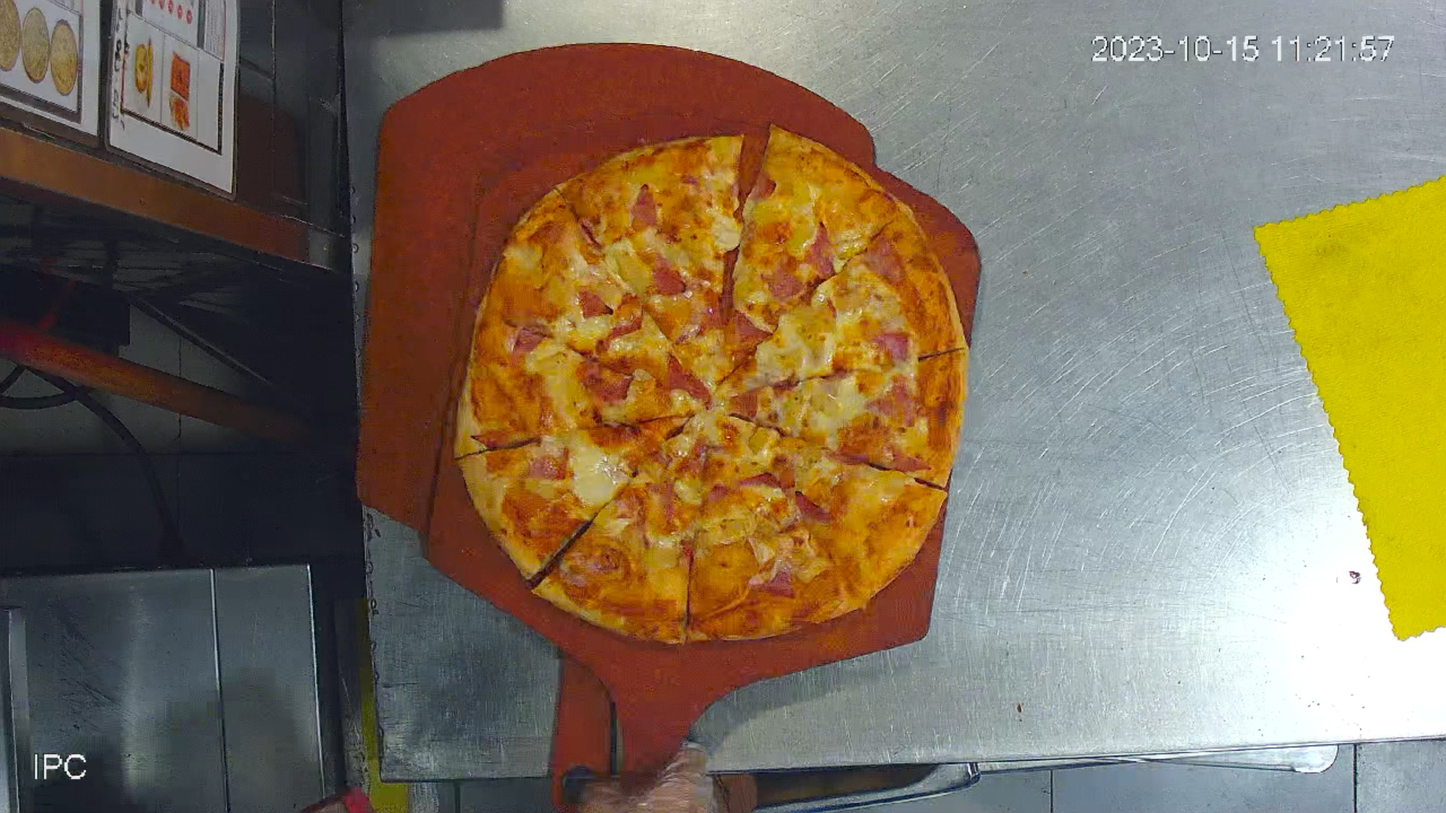hawaiian: (445, 119, 973, 648)
